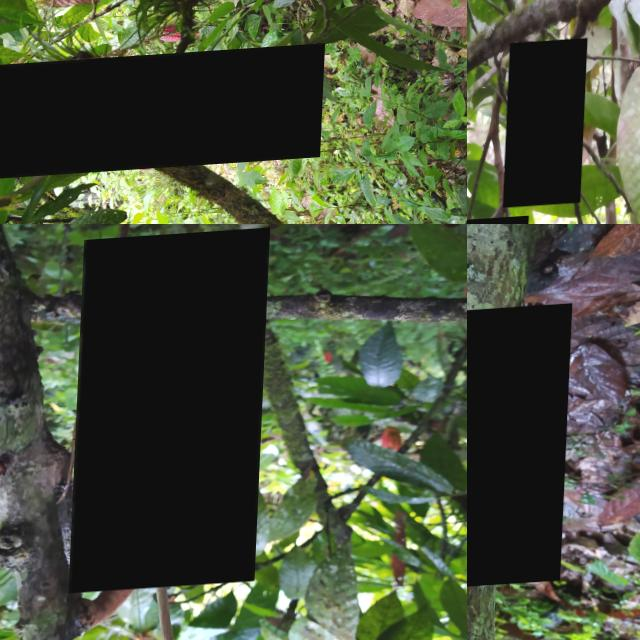Fitoftora: (506, 44, 588, 212)
Monilia: (73, 232, 271, 595), (467, 308, 574, 594)
Sana: (0, 49, 327, 181)
